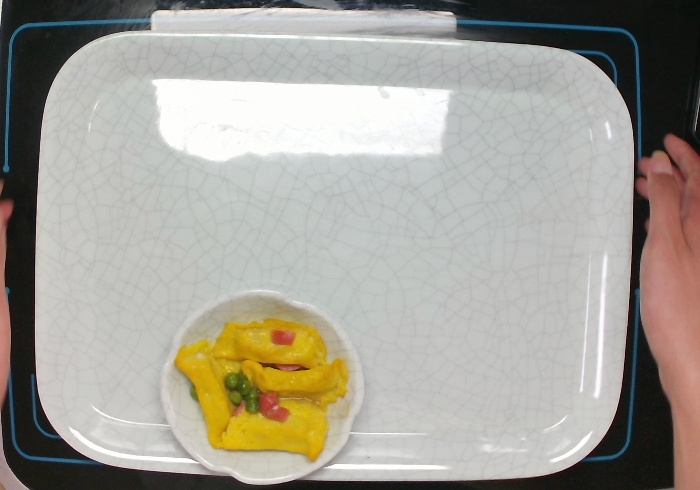JYsf-Ao_Yuan_Wan: (156, 286, 367, 487)
